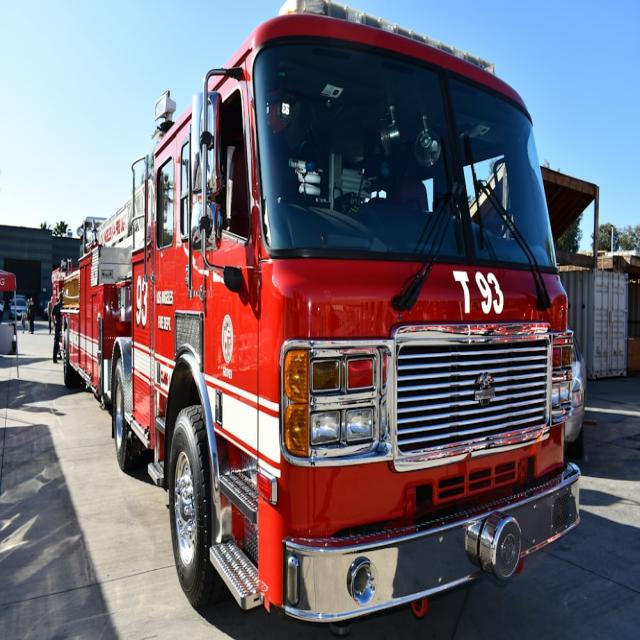emergency: (54, 4, 580, 621)
